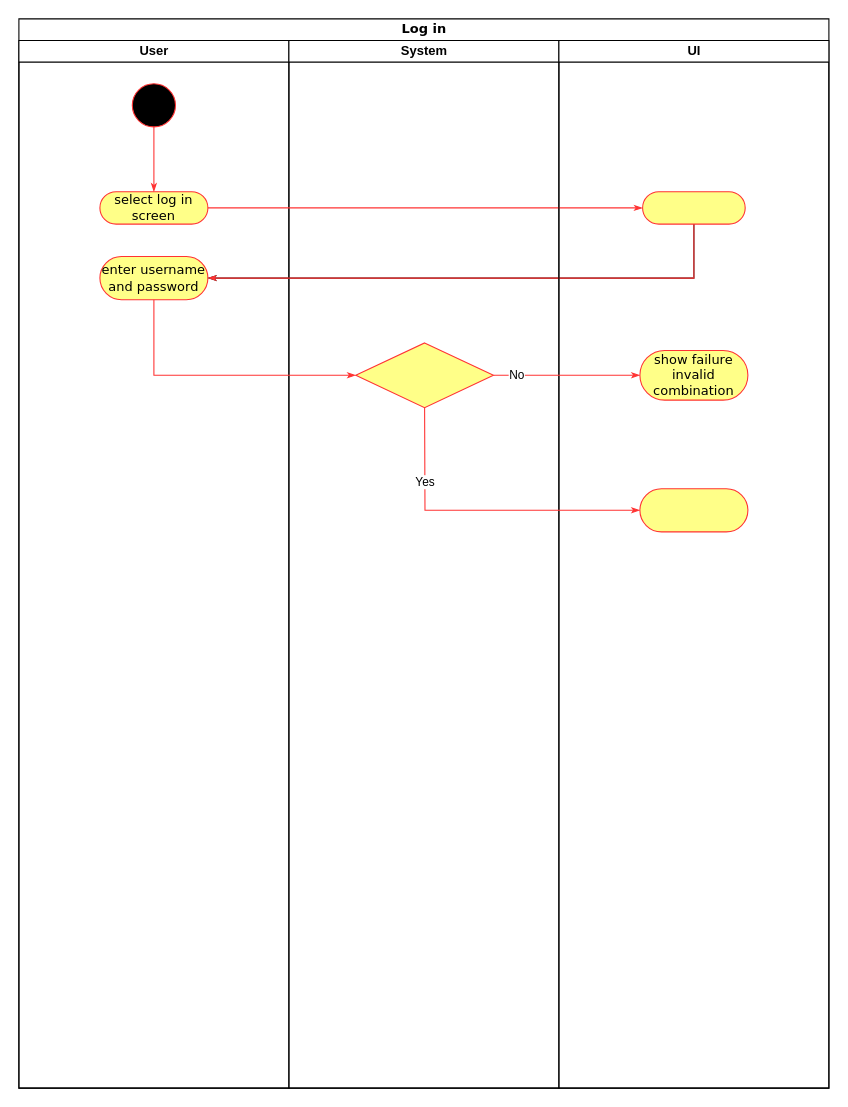
The diagram is 848 pixels wide and 1107 high, and some of its shapes have lost their labels. Here are the shapes that lost their labels. From the top down, the box of each, then its label:
(642, 191, 745, 224): show log in screen
(355, 342, 493, 408): Is username and password combination valid?
(639, 488, 748, 532): show account information
